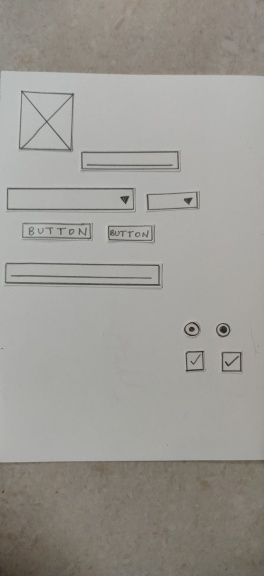button: (19, 220, 96, 242), (105, 221, 159, 244)
checkbox: (217, 349, 246, 376), (181, 348, 209, 375)
dropdown: (3, 184, 138, 215), (144, 189, 203, 213)
img: (15, 87, 76, 156)
radio: (180, 318, 204, 341), (212, 320, 235, 340)
text: (3, 258, 165, 291), (78, 148, 183, 173)
